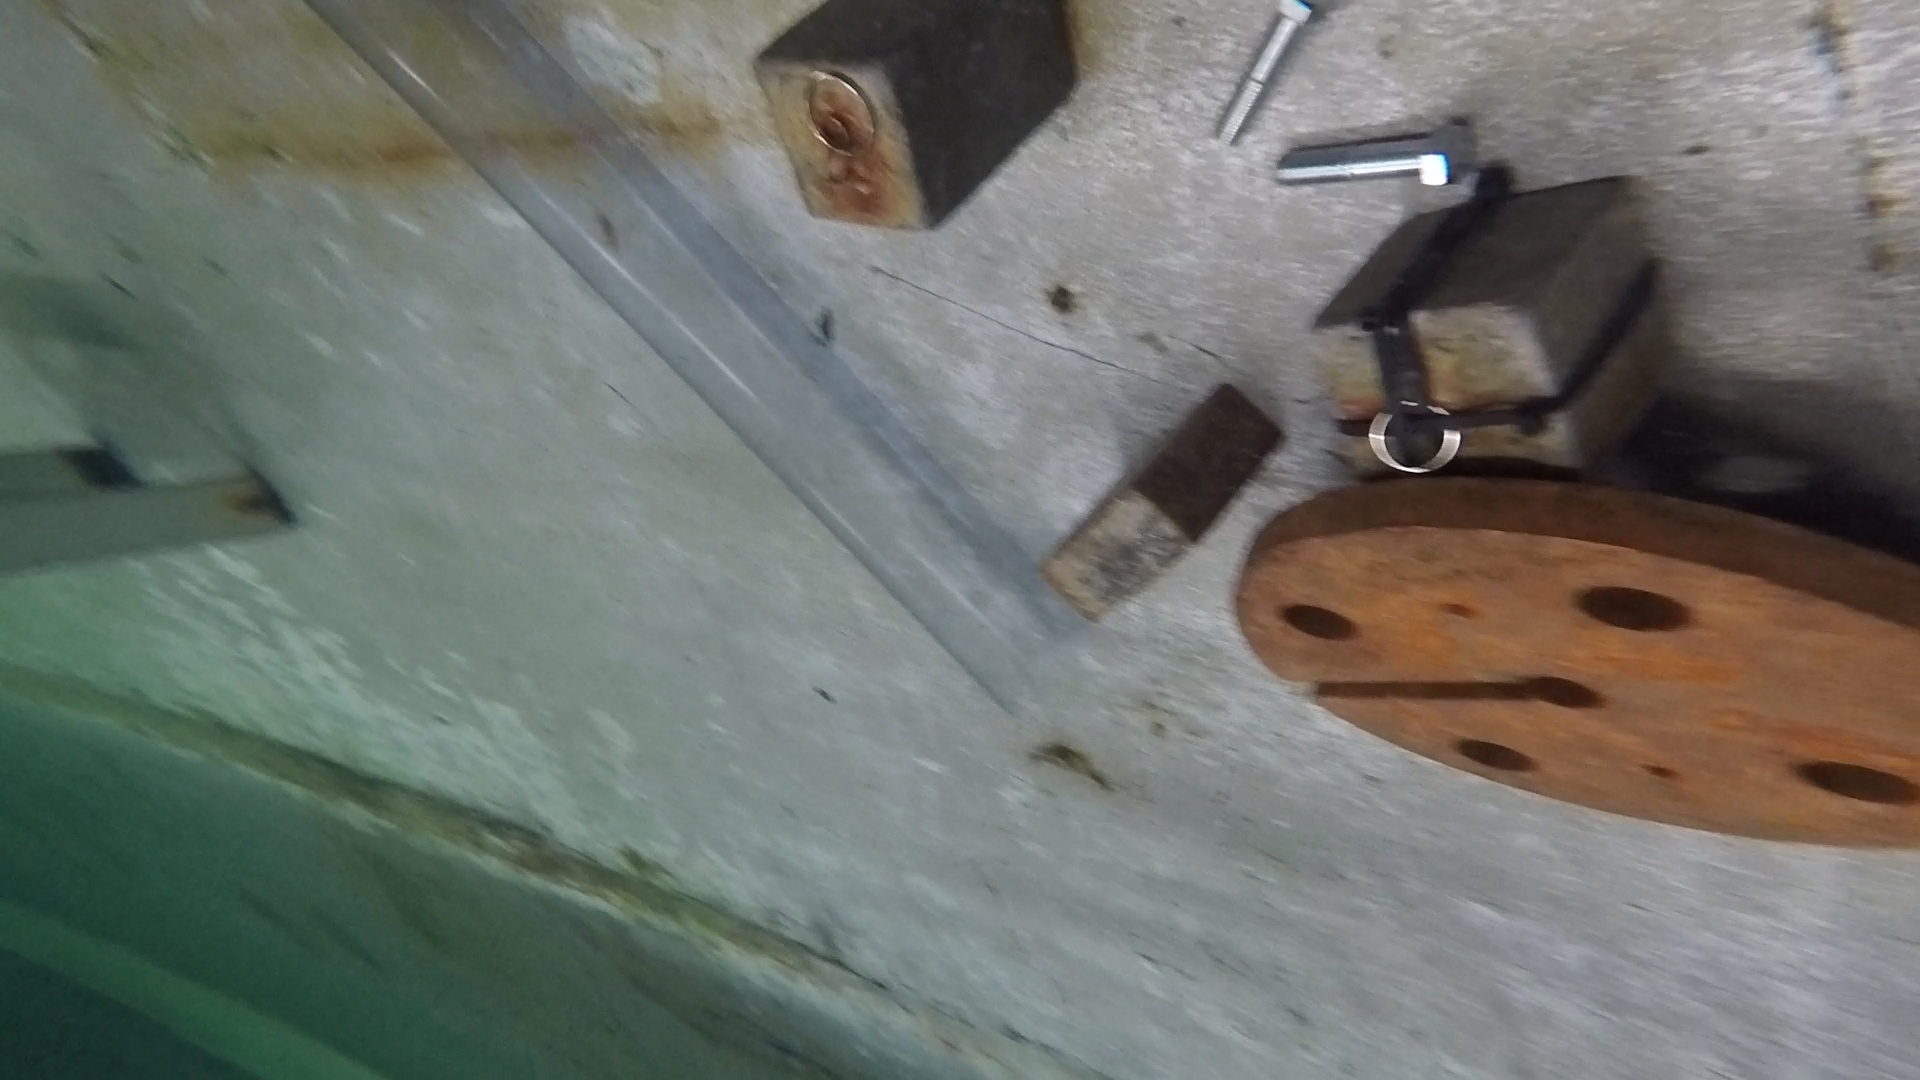bolt: (1273, 124, 1469, 206), (1211, 1, 1315, 152)
flange: (1234, 481, 1920, 855)
led_block: (1303, 181, 1673, 483), (750, 1, 1077, 233), (1040, 384, 1286, 624)
pipe: (307, 1, 1081, 716)
